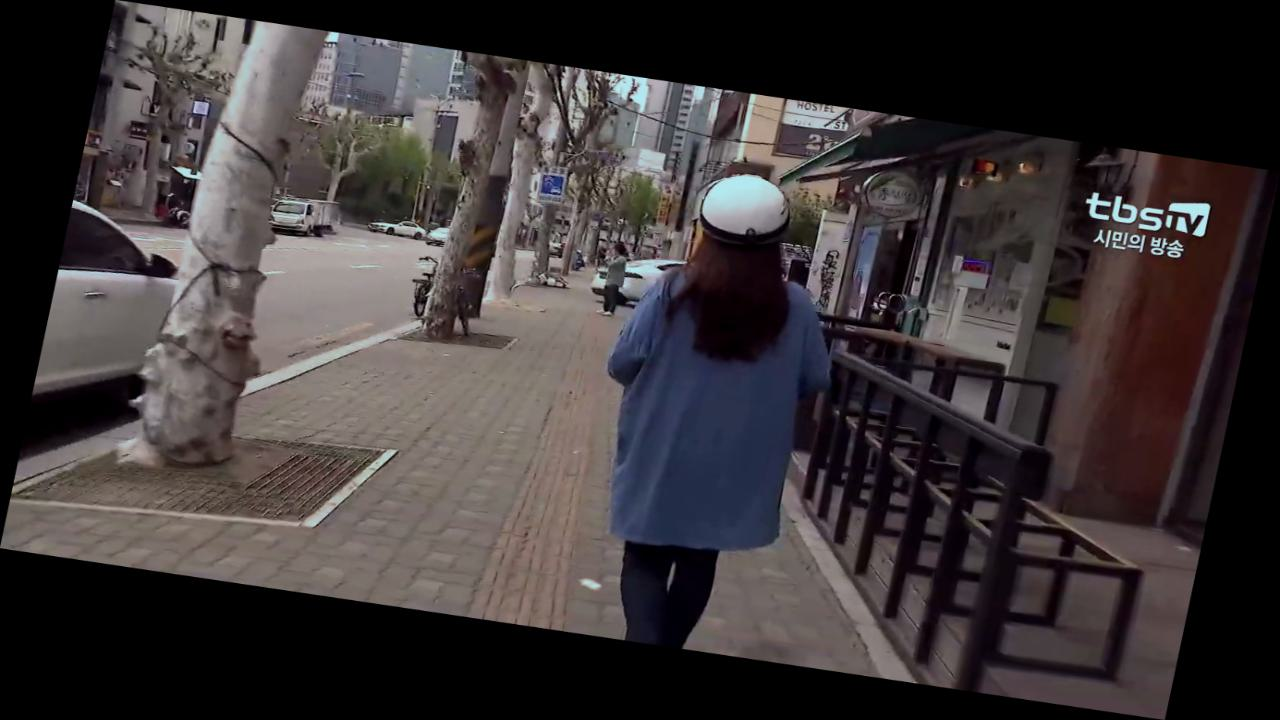helmet: (549, 156, 877, 663)
